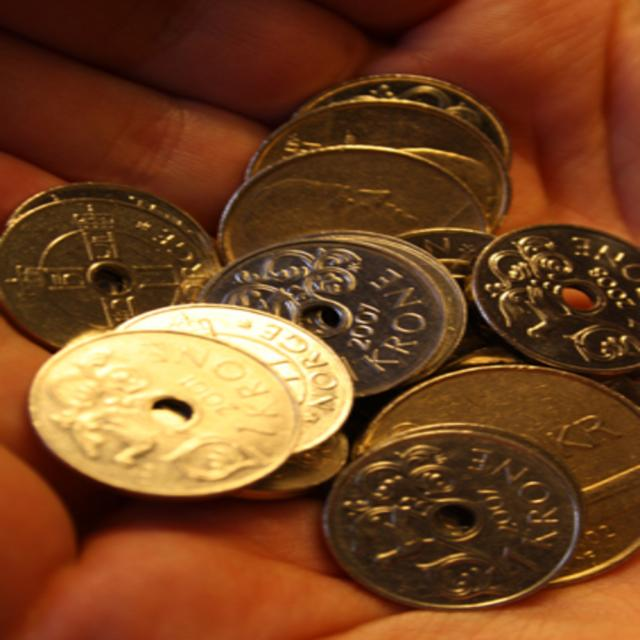Coin: (0, 72, 638, 611)
